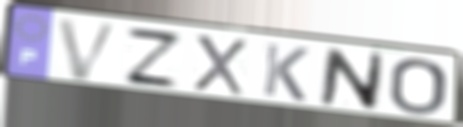K: (260, 41, 312, 104)
N: (316, 46, 387, 113)
O: (387, 57, 449, 117)
V: (54, 16, 124, 83)
X: (190, 32, 249, 99)
Z: (121, 25, 186, 91)
